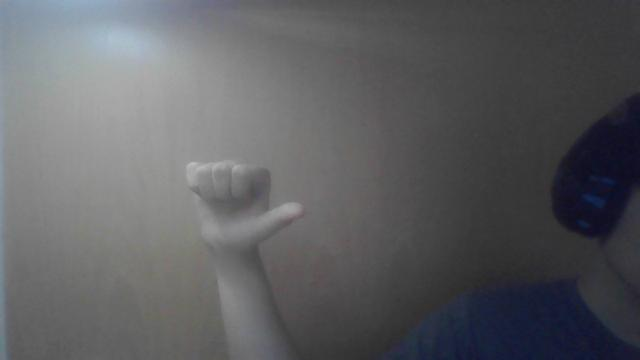left: (176, 154, 316, 264)
